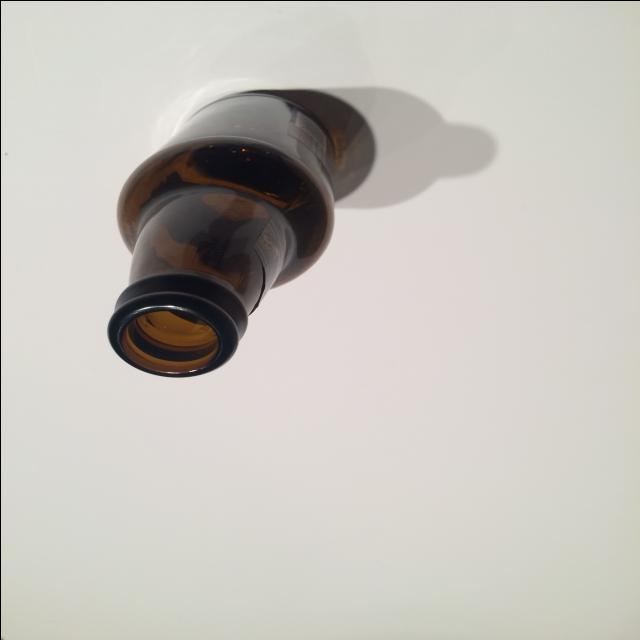glass: (58, 78, 376, 399)
